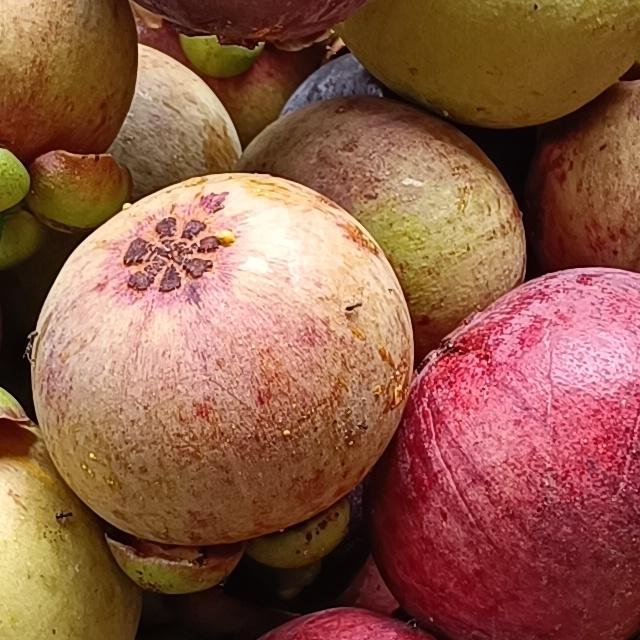mangosteen: (0, 107, 528, 472), (398, 257, 640, 632), (0, 302, 223, 640), (168, 0, 640, 152), (0, 0, 248, 257), (268, 0, 640, 162), (0, 527, 528, 640)
